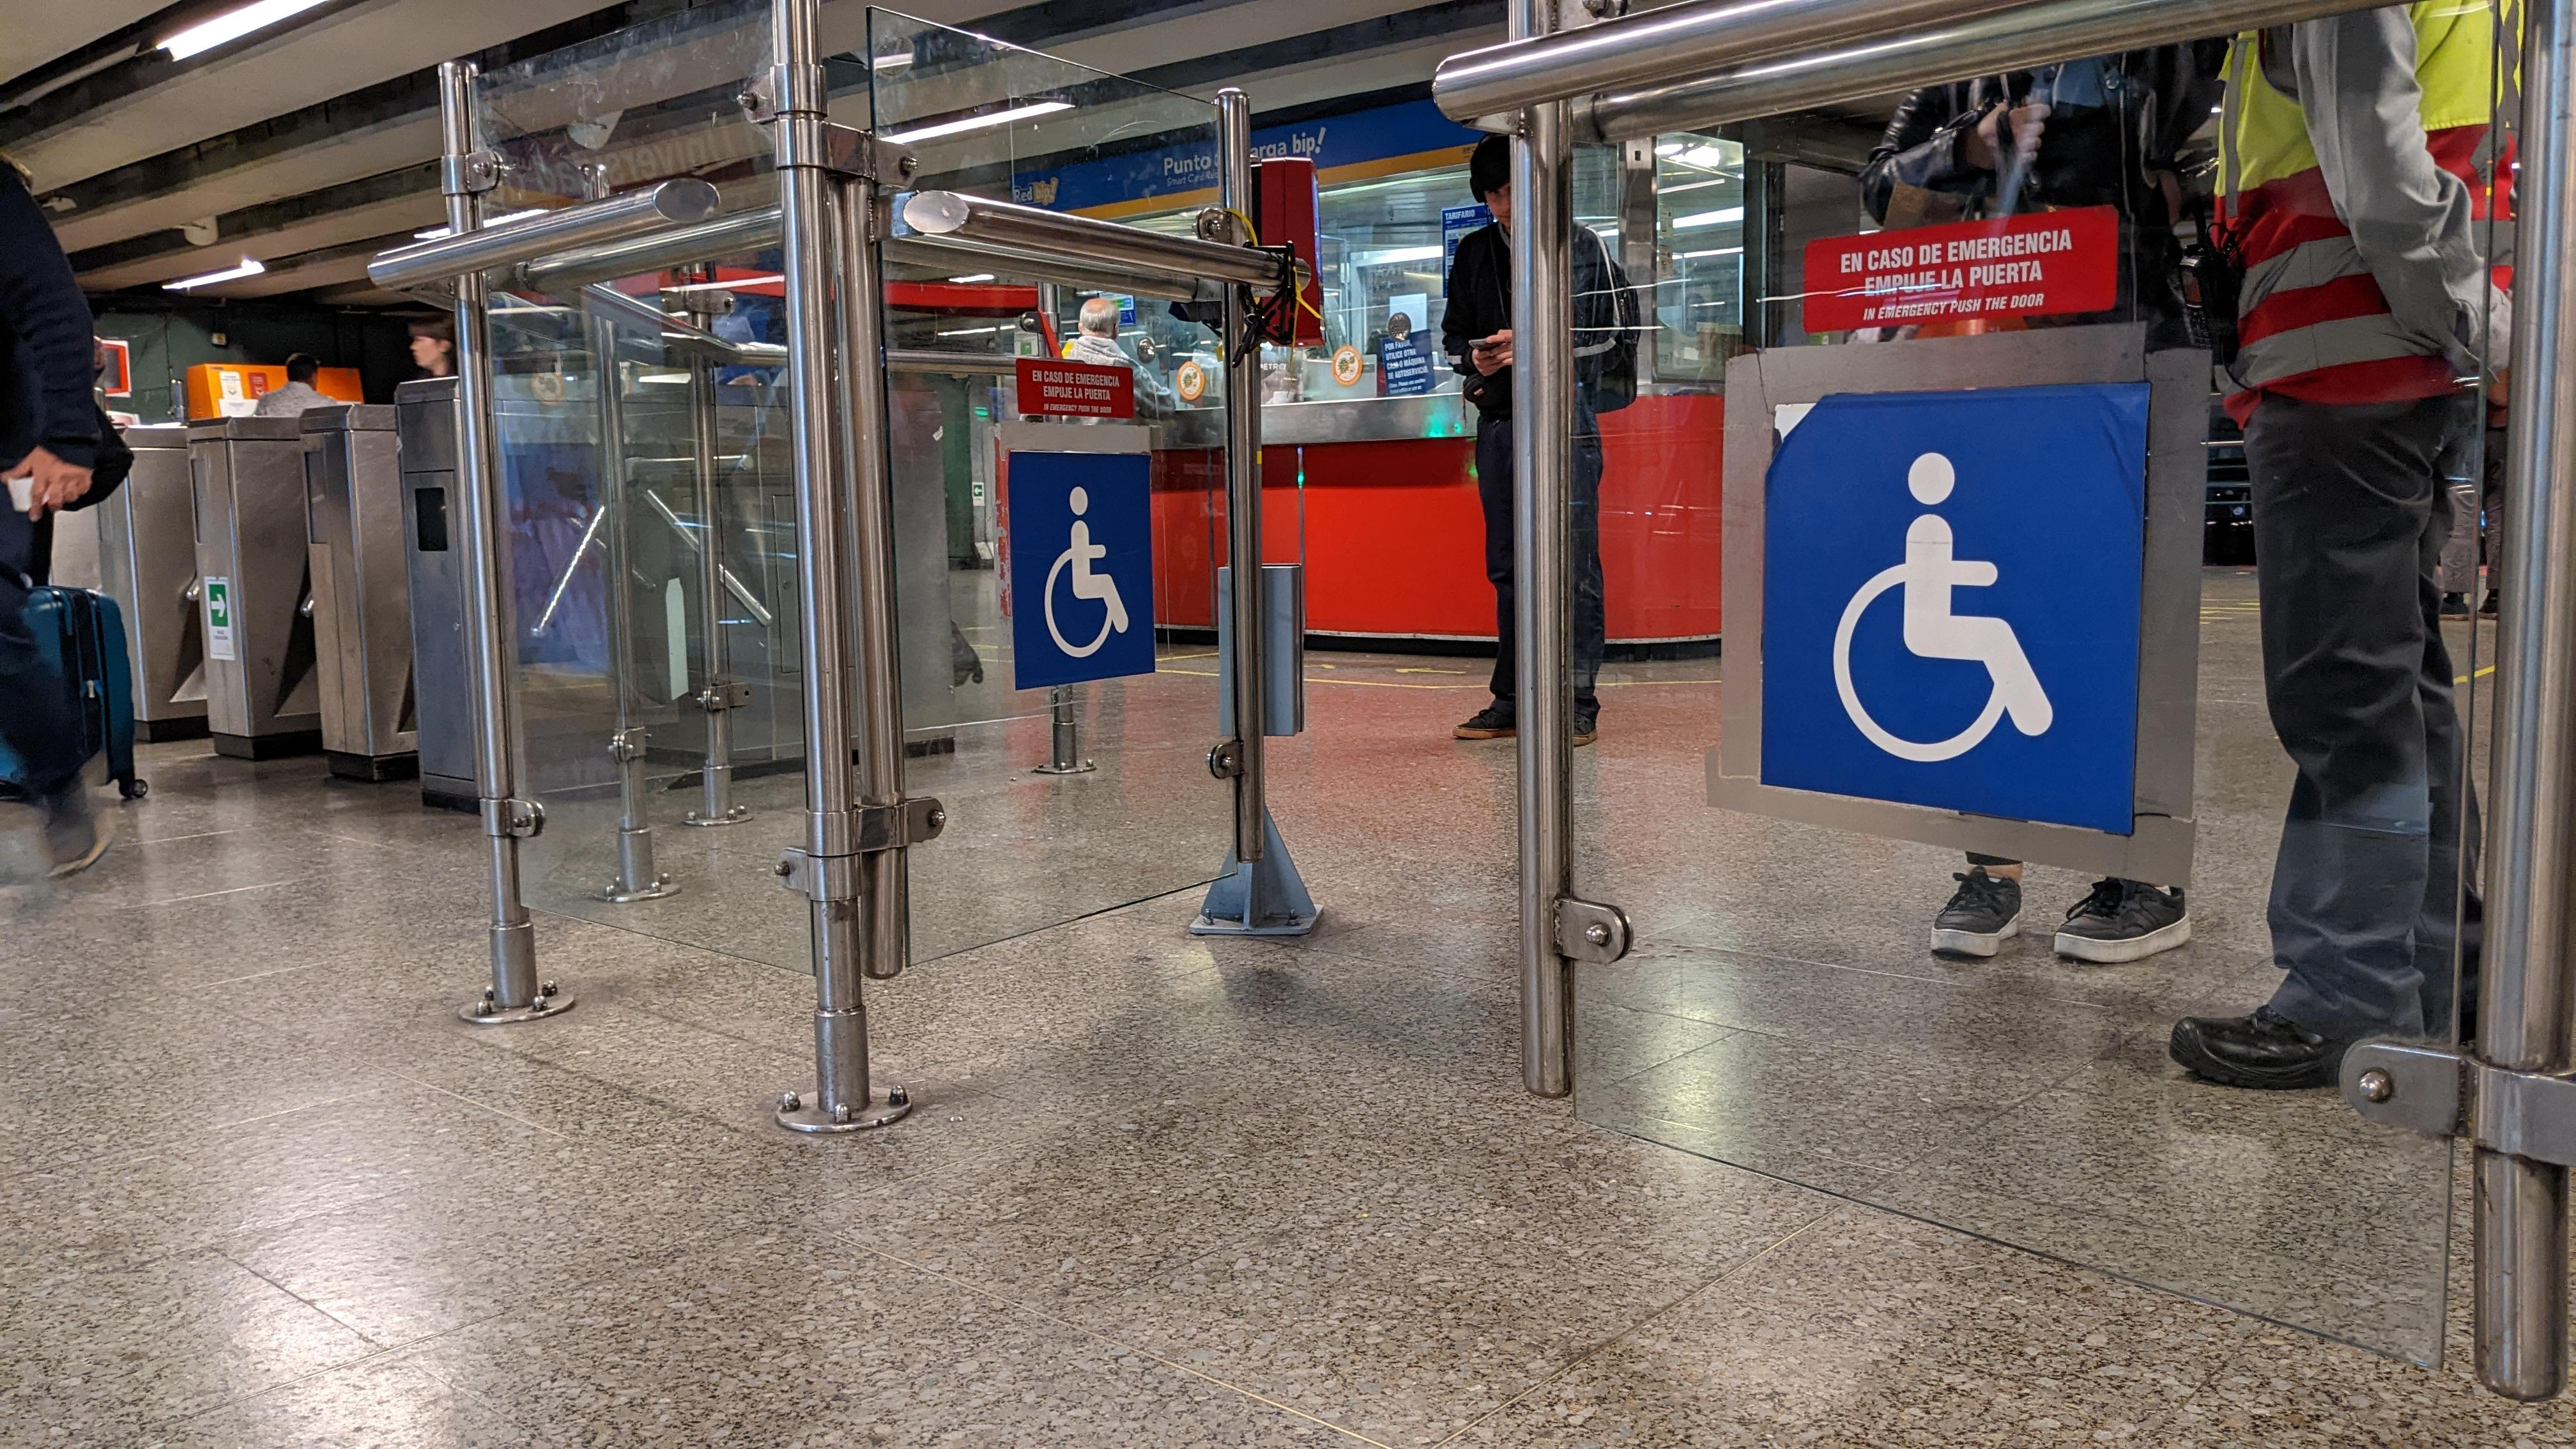handicapped symbol: (1828, 449, 2061, 766), (1039, 481, 1134, 665)
